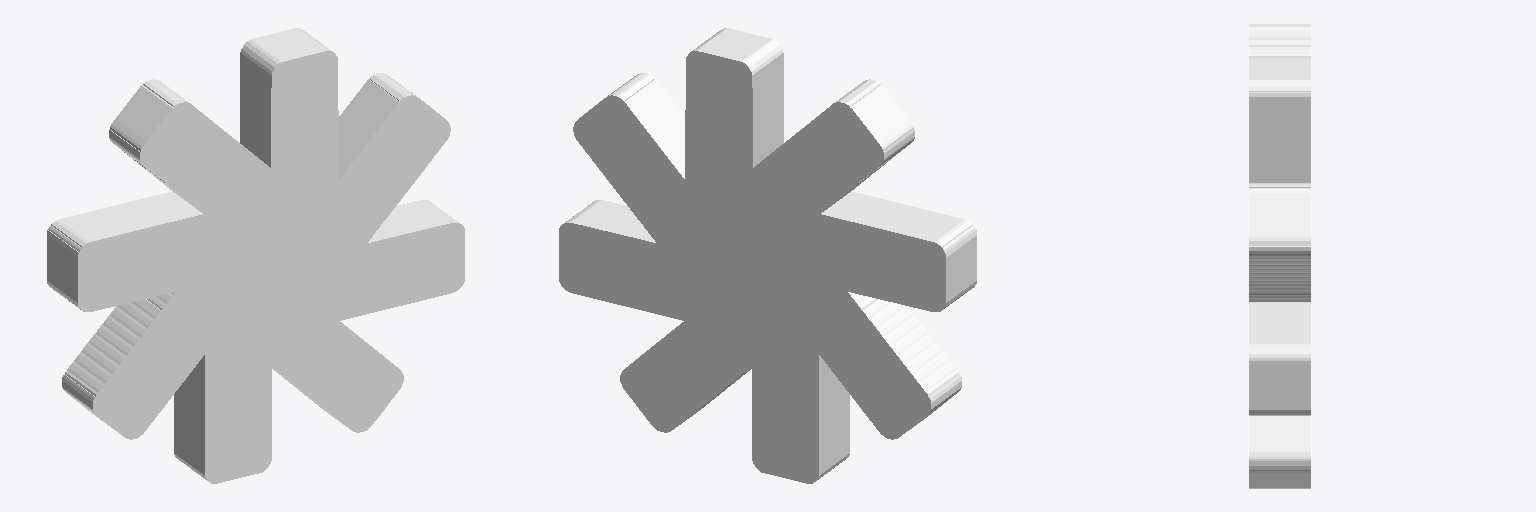
File: fridae.obj
3 renders of one model, left to right at view 1: azimuth 30°, elevation 25°; view 2: azimuth 150°, elevation 25°; view 3: azimuth 270°, elevation 25°, orthographic.
Parts seen in each view (by area): view 1: mesh_0; view 2: mesh_0; view 3: mesh_0.
Boxes of the visible parts, box(x1,y1,x2,y2) form: mesh_0: box(47, 28, 464, 483); mesh_0: box(559, 28, 976, 483); mesh_0: box(1249, 24, 1310, 488).
Bounding box in the file's own units: 1080 × 1080 × 150.